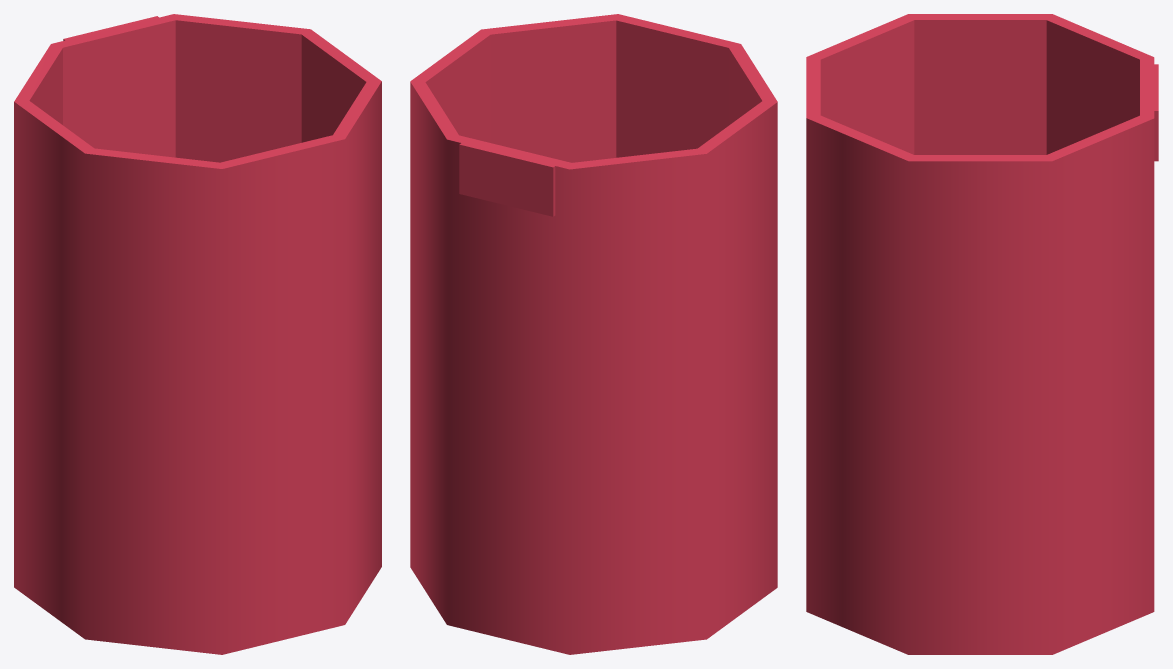
The model's file is Itr_Trashcan4_Body_04.FBX.
The picture shows the model from 3 angles, left to right: view 1: azimuth 30°, elevation 25°; view 2: azimuth 150°, elevation 25°; view 3: azimuth 270°, elevation 25°; orthographic projection.
Parts seen in each view (by area): view 1: Itr_Trashcan4_Body_04; view 2: Itr_Trashcan4_Body_04; view 3: Itr_Trashcan4_Body_04.
Boxes of the visible parts, x1,y1,x2,y2 form: Itr_Trashcan4_Body_04: [14, 14, 381, 654]; Itr_Trashcan4_Body_04: [410, 14, 777, 654]; Itr_Trashcan4_Body_04: [806, 14, 1158, 654].
Size of the model in its own units: 12.01 by 18.79 by 12.15.
